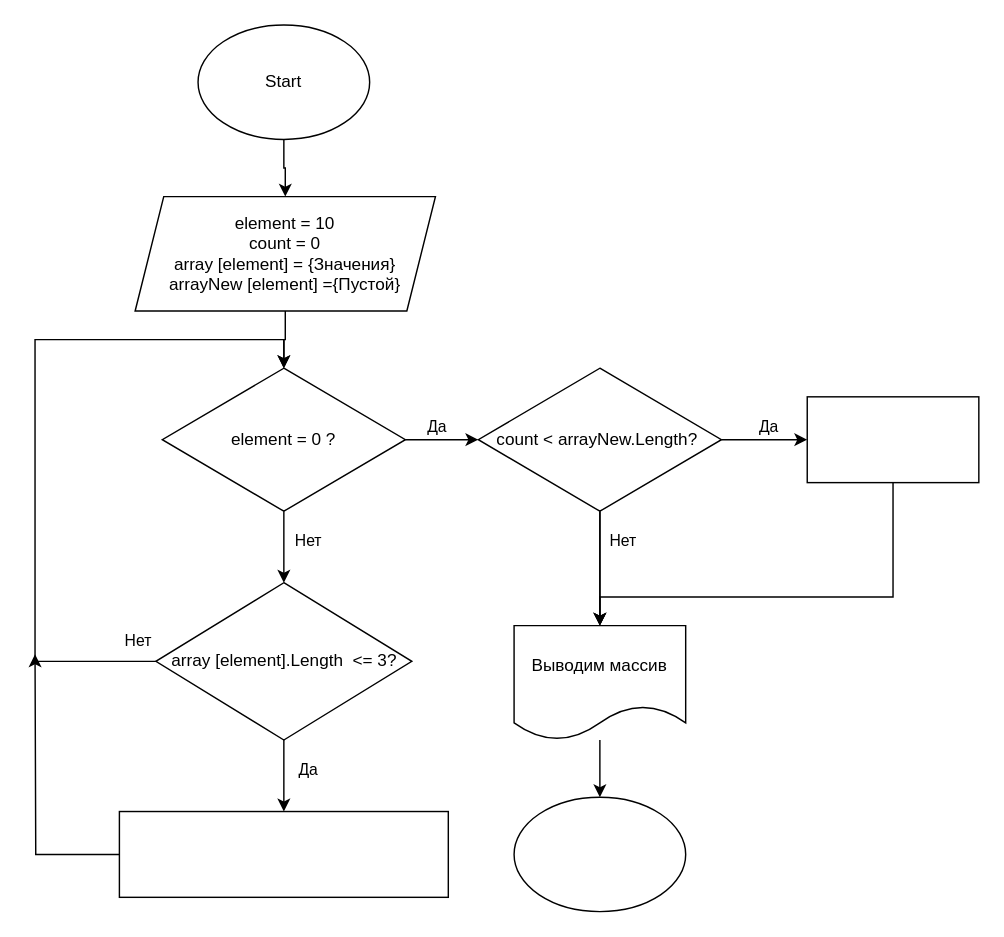
Image size: 1004x937. Some labels were removed from this diagram. Here are the shapes that lost their labels. From the top down, the centre of each, then its label:
At pixel 892 439: "Уменьшаем размер массива".
At pixel 283 853: "arrayNew [count] = array [element] count ++".
At pixel 599 854: "End".
